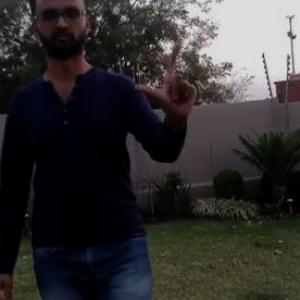land_hand: (131, 38, 201, 111)
